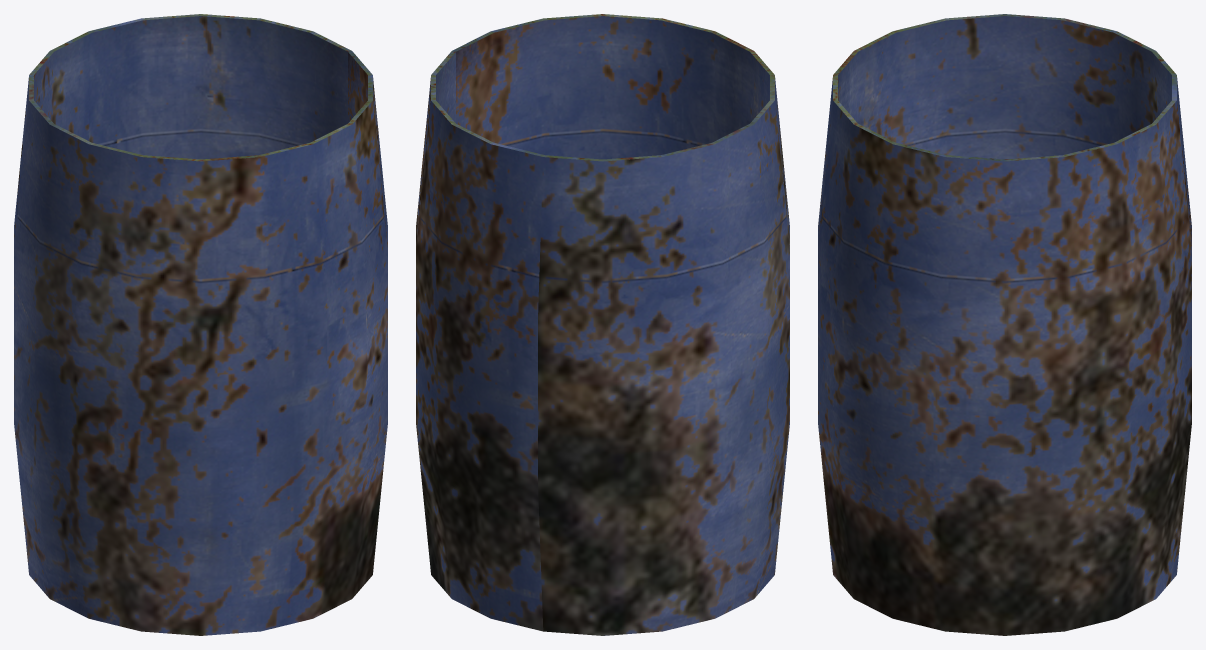
File: trashcan_02.FBX
3 views of the same model, side by side, from view 1: azimuth 30°, elevation 25°; view 2: azimuth 150°, elevation 25°; view 3: azimuth 270°, elevation 25° (orthographic).
Visible parts, largest first — view 1: trashcan_02; view 2: trashcan_02; view 3: trashcan_02.
Boxes of the visible parts, bbox=[...] form: trashcan_02: bbox=[14, 14, 387, 635]; trashcan_02: bbox=[416, 14, 789, 635]; trashcan_02: bbox=[818, 14, 1191, 635].
Size of the model in its own units: 0.5403 by 0.7455 by 0.5321.
